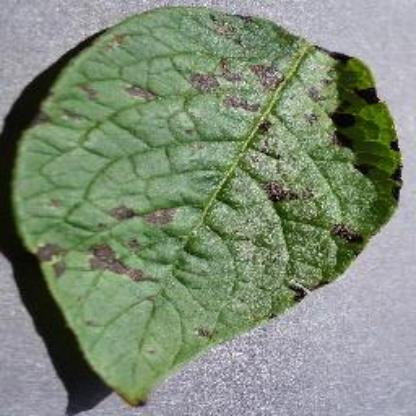Early-Blight: (7, 6, 403, 406)
